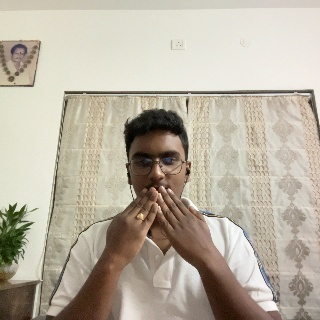Thank You: (104, 188, 222, 264)
